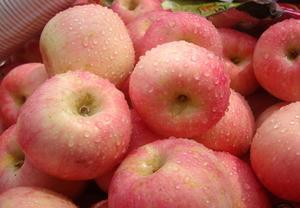apple: (15, 71, 132, 181), (128, 41, 232, 138), (108, 137, 239, 207), (38, 5, 135, 91), (251, 99, 299, 202), (252, 18, 300, 101), (204, 89, 262, 157), (1, 61, 50, 128)
